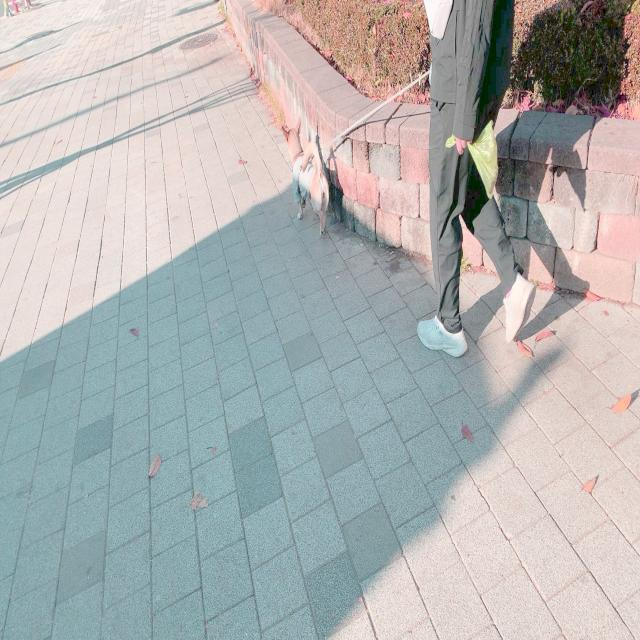Leashed_Dog: (282, 24, 461, 237)
